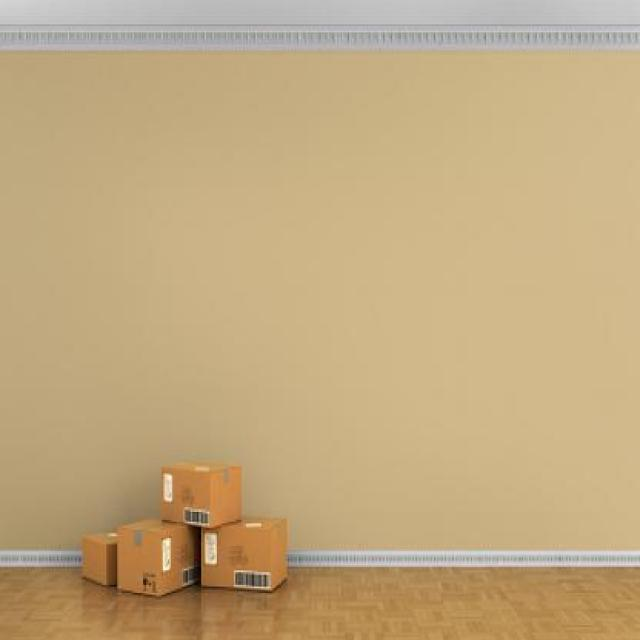box: (199, 516, 303, 604), (156, 454, 247, 536), (112, 518, 199, 593), (72, 525, 128, 606)
